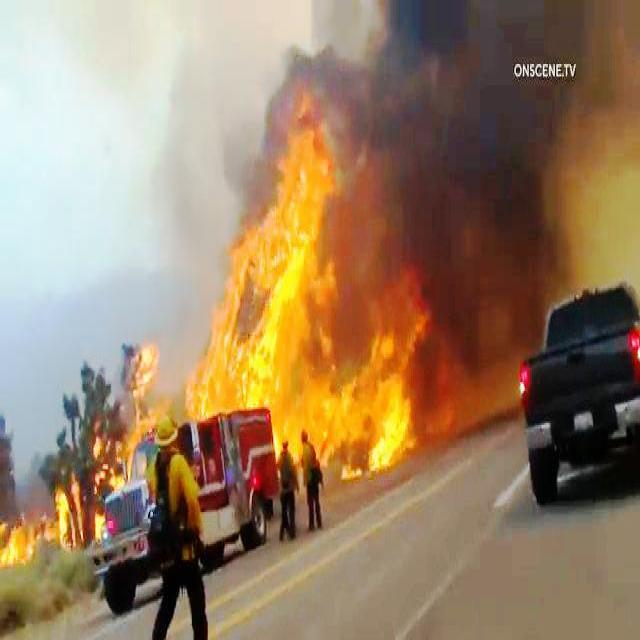Fire: (195, 106, 333, 396), (324, 212, 414, 474), (116, 338, 160, 450), (0, 496, 64, 571)
Smoke: (356, 15, 496, 188)
